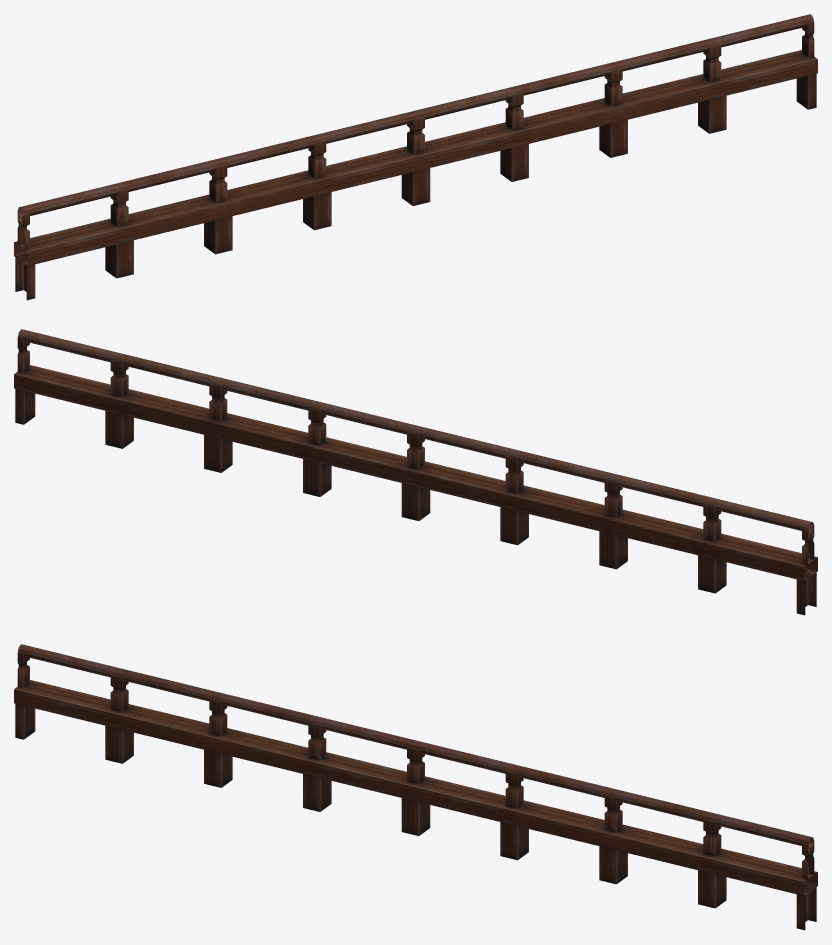
File: Balcony Handrail x 8.fbx
The picture shows the model from 3 angles, top to bottom: view 1: azimuth 30°, elevation 25°; view 2: azimuth 150°, elevation 25°; view 3: azimuth 330°, elevation 25°; orthographic projection.
Visible parts, largest first — view 1: Balcony Handrail x 8; view 2: Balcony Handrail x 8; view 3: Balcony Handrail x 8.
Part boxes in pixels (left/top/right/bottom): Balcony Handrail x 8: left=14, top=14, right=817, bottom=300; Balcony Handrail x 8: left=14, top=329, right=817, bottom=615; Balcony Handrail x 8: left=14, top=644, right=817, bottom=930.
Bounding box in the file's own units: 8 × 0.862 × 0.24.
